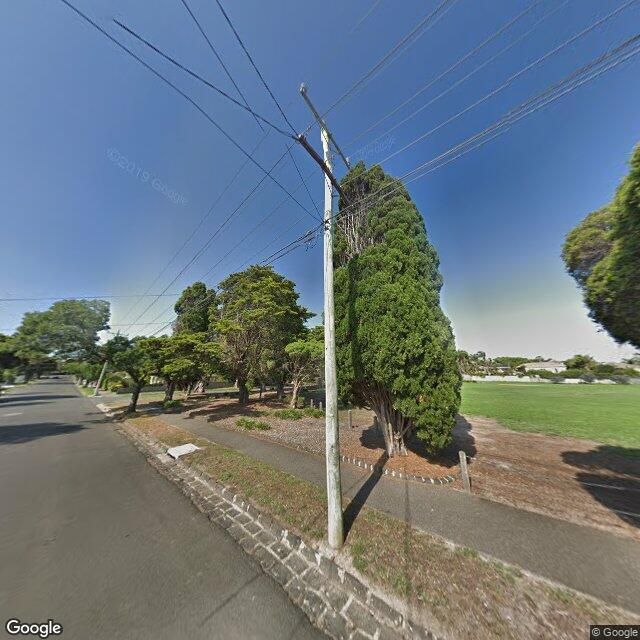HV-transmission: (300, 81, 353, 169)
crossarm: (300, 90, 353, 170), (300, 136, 350, 205)
timber-pole: (322, 127, 343, 546)
